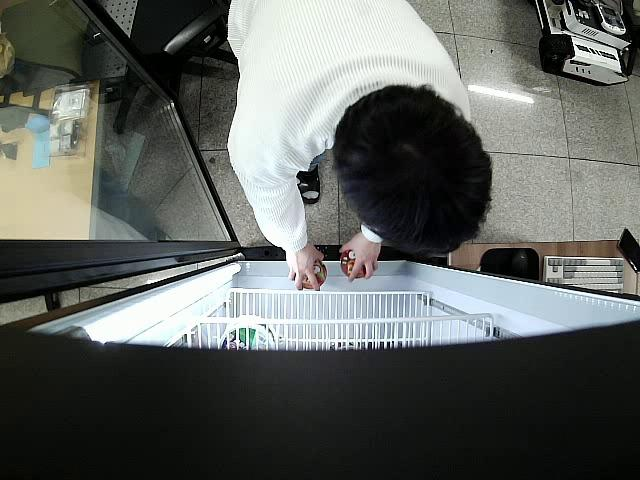00_hand: (341, 239, 380, 282), (287, 250, 324, 289)
06_nuguri_S: (340, 250, 374, 277), (296, 261, 328, 289)
